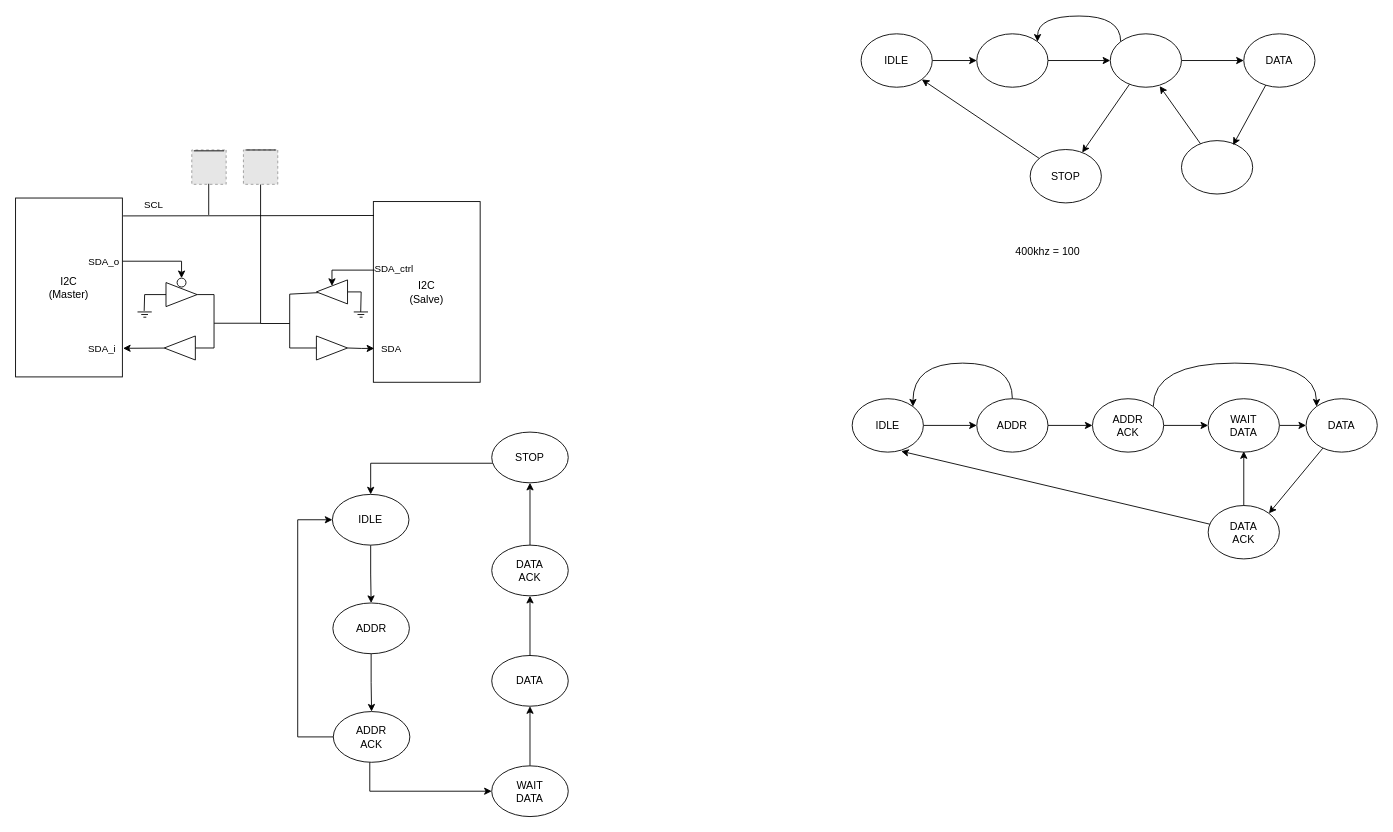
Image size: 1393x832. Some labels were removed from this diagram. Grey dashed boxes stand in for pictures. Here are the shapes that lost their labels. From the top down, the centre of each, then its label:
pixel 1012 60: START
pixel 1145 60: WAIT CMD
pixel 1217 167: ACK
